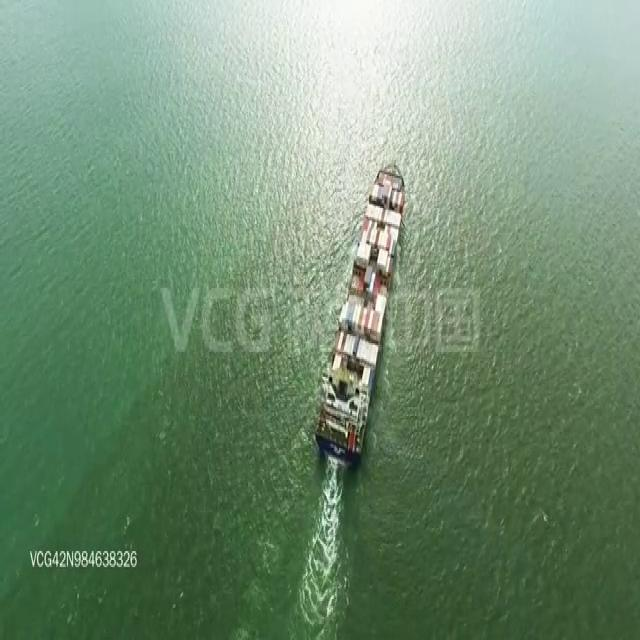cargoship: (321, 164, 405, 461)
